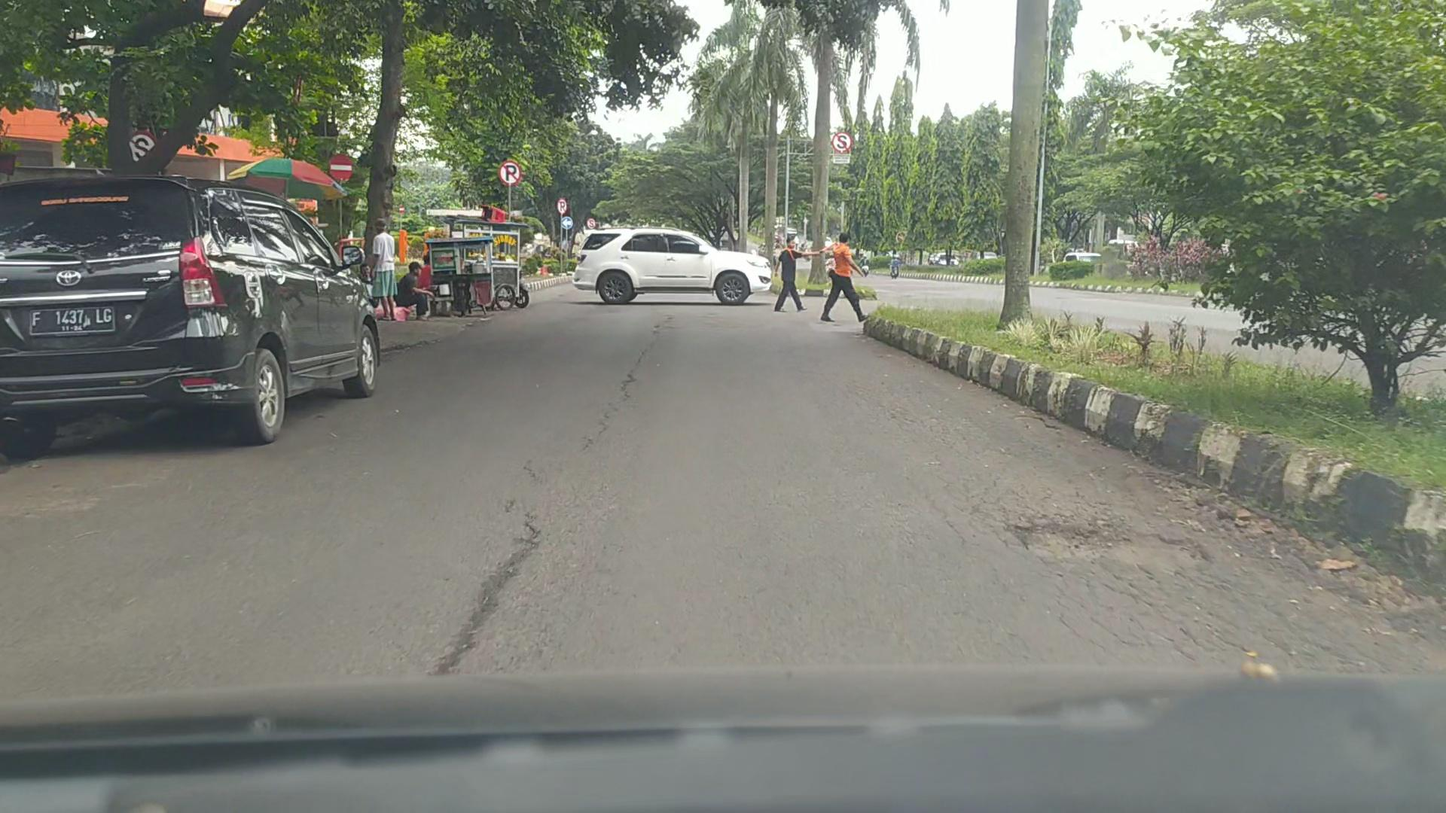pothole: (1024, 529, 1208, 567)
